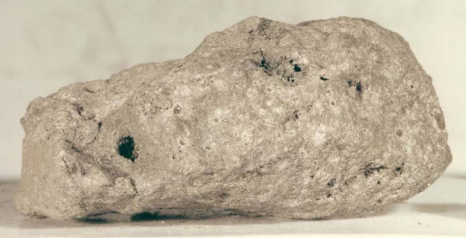Basalt: (34, 51, 451, 223)
